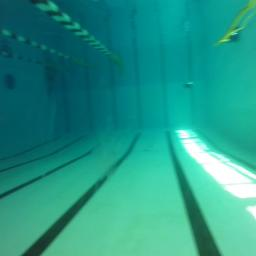Full: (230, 32, 241, 39), (185, 81, 193, 86)
